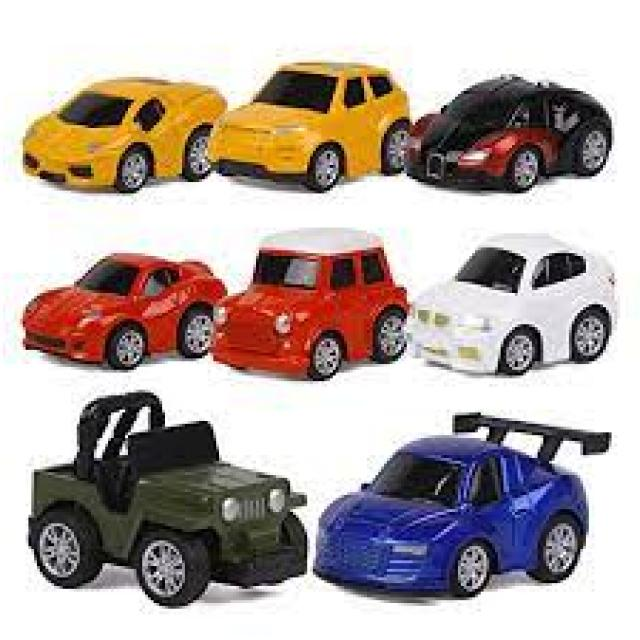Car: (210, 225, 412, 381), (407, 230, 620, 376), (208, 60, 412, 190), (404, 71, 614, 191), (22, 250, 228, 370), (22, 74, 228, 191)
Panda: (28, 387, 310, 606)
